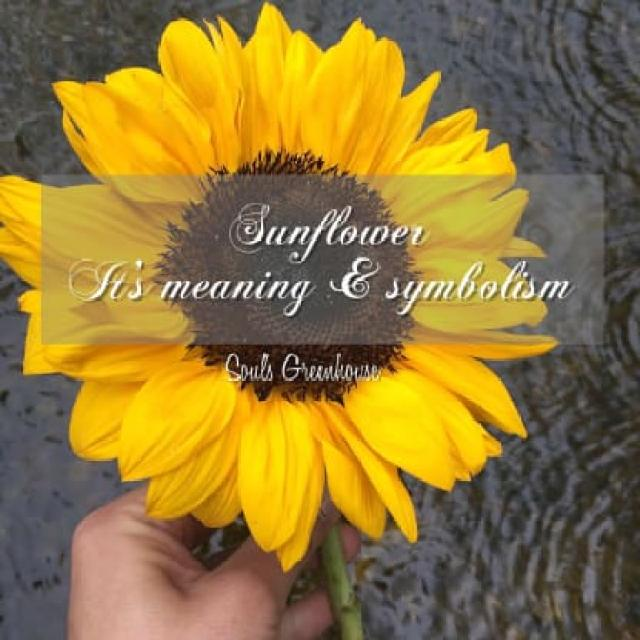sunflower: (8, 11, 574, 558)
